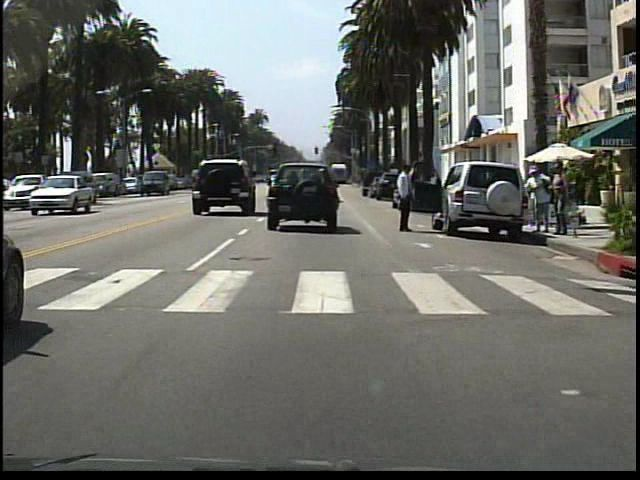person: (392, 157, 422, 238), (522, 162, 551, 239), (550, 160, 571, 240)
